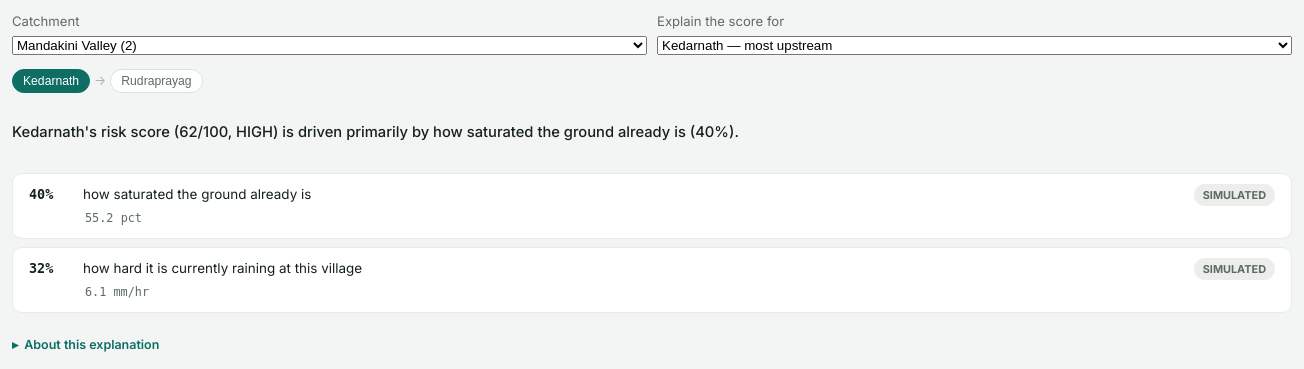
Test: ExplanationPanel › re-fetches the explanation when a different village is picked
Expected: the text "driven primarily by" is shown, [12,123,739,141]
Select "Rudraprayag — most downstream" in the dropdown labelled "Explain the score for" at coordinates (974, 45), box [657,36,1292,55]
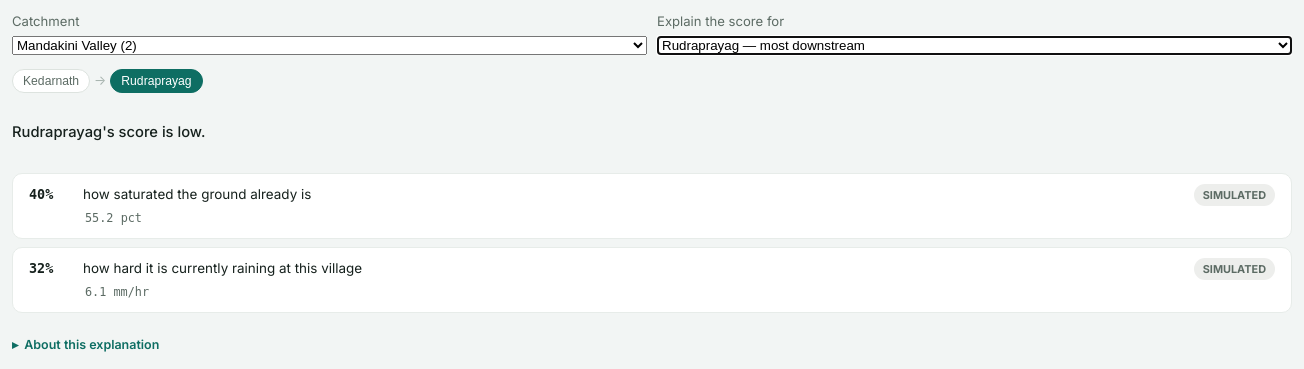
Expected: the text "Rudraprayag's score is low." is shown, [12,123,205,141]
